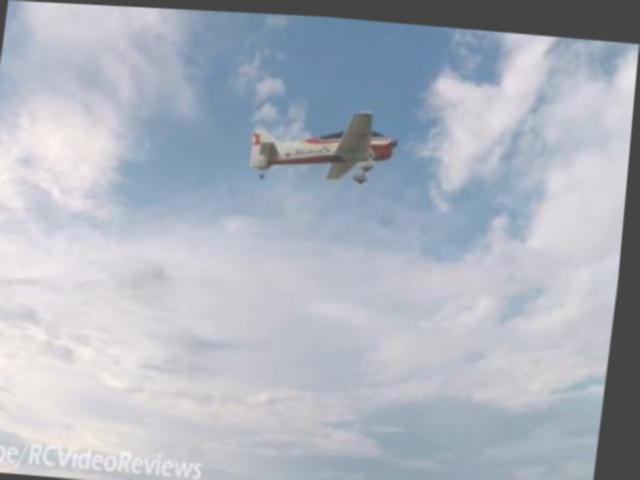uav: (242, 87, 411, 196)
